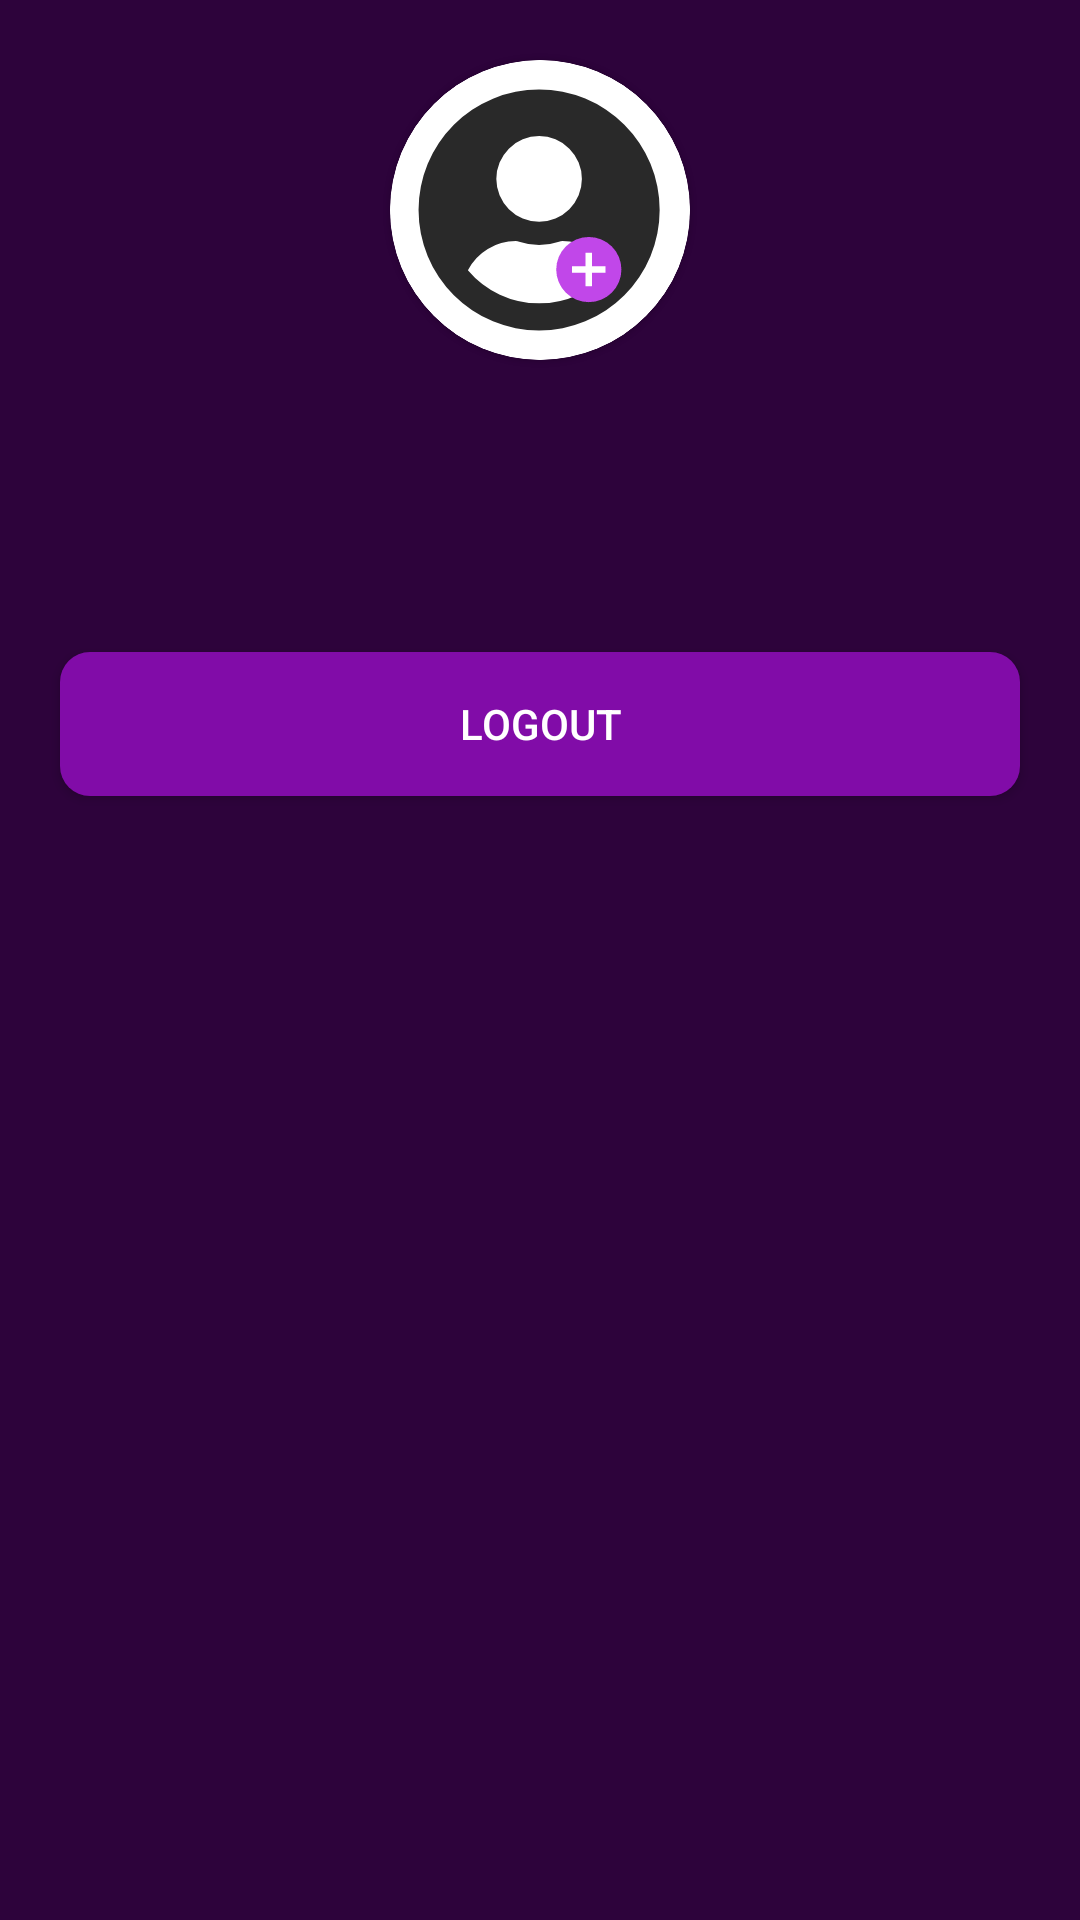

Where icons sit on this 1080px x 1920px app screen, as (x1, y1, x2, y2):
user profile: (390, 60, 690, 360)
